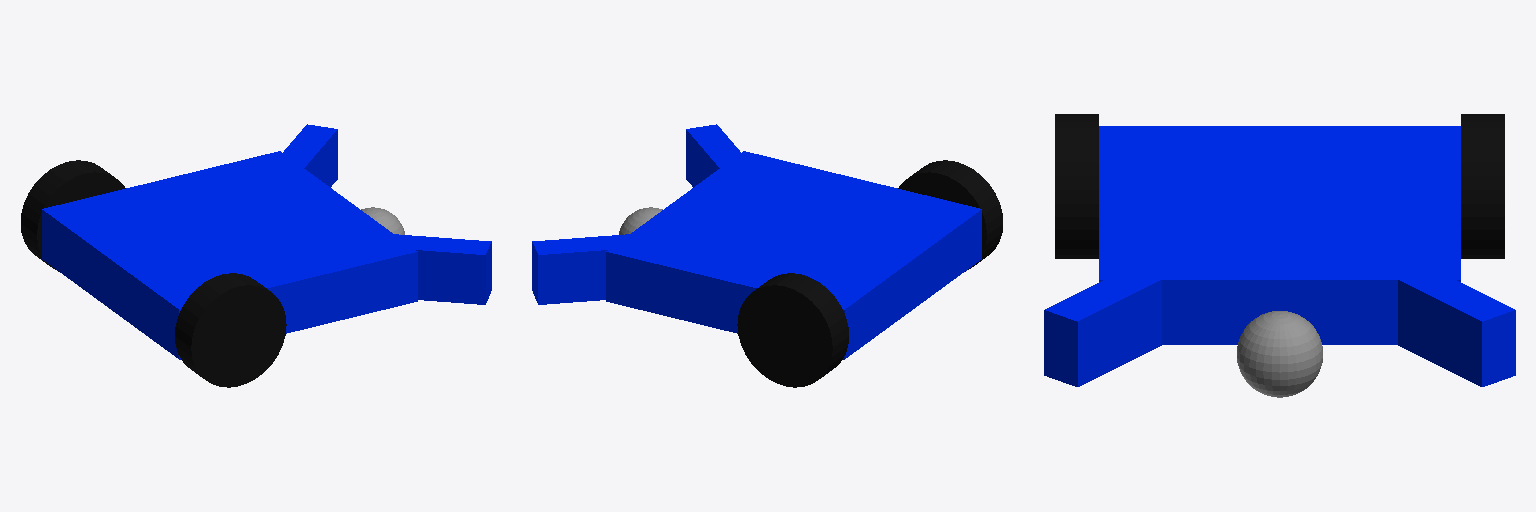
URDF robot description (triangle_bot):
<?xml version="1.0"?>
<robot name="triangle_bot">

  <!-- ==========================
       MATERIALS
  =========================== -->
  <material name="blue">
    <color rgba="0.0 0.2 1.0 1.0"/>
  </material>

  <material name="black">
    <color rgba="0.1 0.1 0.1 1.0"/>
  </material>

  <material name="gray">
    <color rgba="0.6 0.6 0.6 1.0"/>
  </material>

  <!-- ==========================
       BASE LINK
  =========================== -->
  <link name="base_link">

    <visual>
      <origin xyz="0 0 0.05"/>
      <geometry>
        <box size="0.25 0.25 0.05"/>
      </geometry>
      <material name="blue"/>
    </visual>

    <collision>
      <origin xyz="0 0 0.05"/>
      <geometry>
        <box size="0.25 0.25 0.05"/>
      </geometry>
    </collision>

    <inertial>
      <origin xyz="0 0 0.05"/>
      <mass value="3.0"/>
      <inertia
        ixx="0.02"
        ixy="0"
        ixz="0"
        iyy="0.02"
        iyz="0"
        izz="0.02"/>
    </inertial>

  </link>

  <!-- ==========================
       LEFT TRIANGLE SIDE
  =========================== -->
  <link name="left_body">

    <visual>
      <origin xyz="0.10 0.08 0.05"
              rpy="0 0 0.7"/>
      <geometry>
        <box size="0.22 0.03 0.05"/>
      </geometry>
      <material name="blue"/>
    </visual>

  </link>

  <joint name="left_body_joint"
         type="fixed">
    <parent link="base_link"/>
    <child link="left_body"/>
    <origin xyz="0 0 0"/>
  </joint>

  <!-- ==========================
       RIGHT TRIANGLE SIDE
  =========================== -->
  <link name="right_body">

    <visual>
      <origin xyz="0.10 -0.08 0.05"
              rpy="0 0 -0.7"/>
      <geometry>
        <box size="0.22 0.03 0.05"/>
      </geometry>
      <material name="blue"/>
    </visual>

  </link>

  <joint name="right_body_joint"
         type="fixed">
    <parent link="base_link"/>
    <child link="right_body"/>
    <origin xyz="0 0 0"/>
  </joint>

  <!-- ==========================
       LEFT WHEEL
  =========================== -->
  <link name="left_wheel">

    <visual>
      <origin rpy="1.5708 0 0"/>
      <geometry>
        <cylinder radius="0.05"
                  length="0.03"/>
      </geometry>
      <material name="black"/>
    </visual>

    <collision>
      <origin rpy="1.5708 0 0"/>
      <geometry>
        <cylinder radius="0.05"
                  length="0.03"/>
      </geometry>
    </collision>

    <inertial>
      <mass value="0.5"/>
      <inertia
        ixx="0.001"
        ixy="0"
        ixz="0"
        iyy="0.001"
        iyz="0"
        izz="0.001"/>
    </inertial>

  </link>

  <joint name="left_wheel_joint"
         type="continuous">

    <parent link="base_link"/>
    <child link="left_wheel"/>

    <origin xyz="-0.08 0.14 0.05"/>

    <axis xyz="0 1 0"/>

  </joint>

  <!-- ==========================
       RIGHT WHEEL
  =========================== -->
  <link name="right_wheel">

    <visual>
      <origin rpy="1.5708 0 0"/>
      <geometry>
        <cylinder radius="0.05"
                  length="0.03"/>
      </geometry>
      <material name="black"/>
    </visual>

    <collision>
      <origin rpy="1.5708 0 0"/>
      <geometry>
        <cylinder radius="0.05"
                  length="0.03"/>
      </geometry>
    </collision>

    <inertial>
      <mass value="0.5"/>
      <inertia
        ixx="0.001"
        ixy="0"
        ixz="0"
        iyy="0.001"
        iyz="0"
        izz="0.001"/>
    </inertial>

  </link>

  <joint name="right_wheel_joint"
         type="continuous">

    <parent link="base_link"/>
    <child link="right_wheel"/>

    <origin xyz="-0.08 -0.14 0.05"/>

    <axis xyz="0 1 0"/>

  </joint>

  <!-- ==========================
       FRONT CASTER
  =========================== -->
  <link name="caster_wheel">

    <visual>
      <geometry>
        <sphere radius="0.03"/>
      </geometry>
      <material name="gray"/>
    </visual>

    <collision>
      <geometry>
        <sphere radius="0.03"/>
      </geometry>
    </collision>

    <inertial>
      <mass value="0.2"/>
      <inertia
        ixx="0.0001"
        ixy="0"
        ixz="0"
        iyy="0.0001"
        iyz="0"
        izz="0.0001"/>
    </inertial>

  </link>

  <joint name="caster_joint"
         type="fixed">

    <parent link="base_link"/>
    <child link="caster_wheel"/>

    <origin xyz="0.15 0 0.03"/>

  </joint>

</robot>

--- Render facts (derived) ---
3 views of the same robot in one strip: view 1: azimuth 30°, elevation 25°; view 2: azimuth 150°, elevation 25°; view 3: azimuth 270°, elevation 25° (orthographic).
Robot: triangle_bot — 6 links, 5 joints (2 continuous, 3 fixed); root link base_link; default pose: all joints at 0.
Visible links, largest first — view 1: base_link, right_wheel, right_body, left_wheel, left_body, caster_wheel; view 2: base_link, left_wheel, left_body, right_wheel, right_body, caster_wheel; view 3: base_link, right_body, left_body, left_wheel, right_wheel, caster_wheel.
Boxes of the visible links, <box> form: base_link: <box>42,151,417,359</box>; right_wheel: <box>175,273,286,387</box>; right_body: <box>247,224,491,304</box>; left_wheel: <box>21,160,125,271</box>; left_body: <box>225,124,337,224</box>; caster_wheel: <box>361,207,404,234</box>; base_link: <box>606,151,981,359</box>; left_wheel: <box>737,273,848,387</box>; left_body: <box>532,224,776,304</box>; right_wheel: <box>898,160,1002,271</box>; right_body: <box>686,124,798,224</box>; caster_wheel: <box>619,207,662,234</box>; base_link: <box>1099,126,1460,344</box>; right_body: <box>1044,209,1245,386</box>; left_body: <box>1294,227,1515,386</box>; left_wheel: <box>1461,114,1504,258</box>; right_wheel: <box>1055,114,1098,258</box>; caster_wheel: <box>1237,311,1322,397</box>.
Bounding box of the posed robot: 0.3238 × 0.3247 × 0.1 m (x, y, z).
Geometry: primitives only (box / cylinder / sphere), no mesh files.
